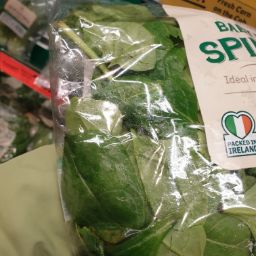Spinach: (71, 4, 216, 254), (49, 24, 175, 256)
